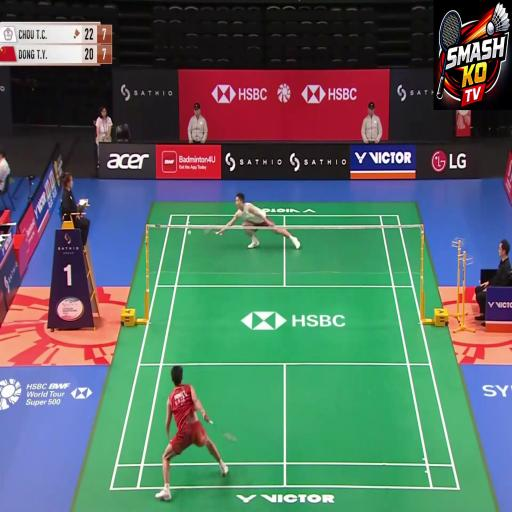player: (159, 361, 235, 494), (200, 170, 306, 265)
